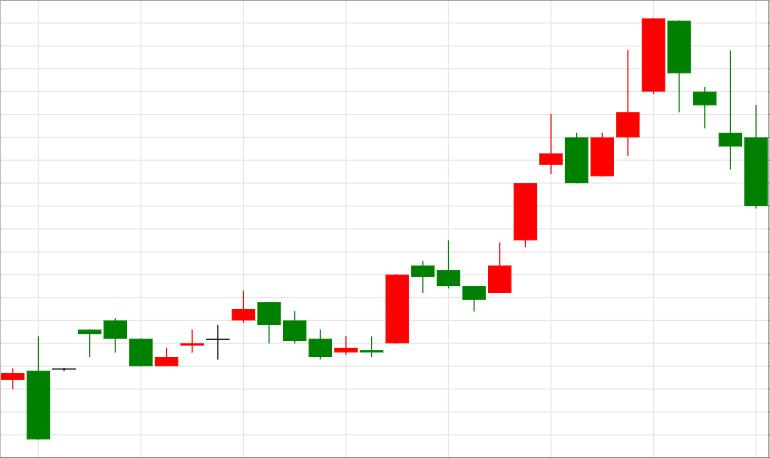shooting_star_fall: (489, 51, 639, 294)
